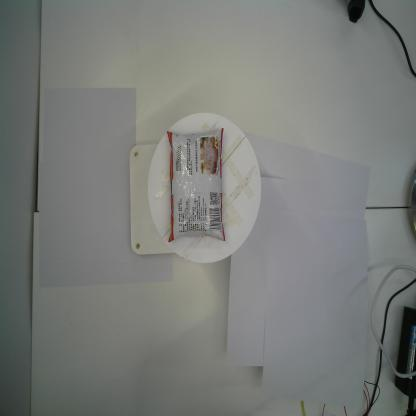Seasoner: (164, 125, 228, 246)
